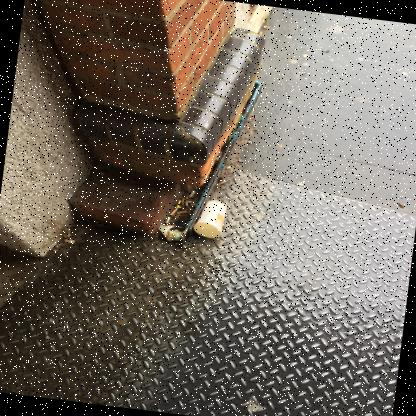Cigarette: (168, 209, 176, 216), (188, 190, 195, 198), (165, 217, 170, 223), (176, 211, 186, 214), (188, 207, 193, 212), (181, 198, 184, 205), (190, 203, 197, 206), (164, 224, 171, 227), (167, 226, 174, 229), (188, 201, 198, 203), (185, 197, 187, 206), (192, 203, 196, 207), (66, 233, 70, 237), (258, 31, 261, 35), (178, 226, 182, 228)
Paper cup: (193, 200, 226, 238)
Unlabeled litter: (159, 222, 182, 242)
